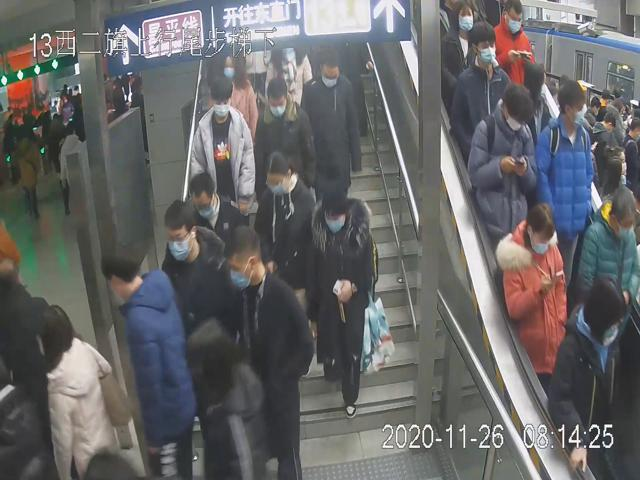person: (220, 220, 313, 480), (303, 193, 392, 417), (489, 204, 568, 392), (537, 78, 595, 317), (466, 82, 537, 254), (298, 50, 364, 206), (254, 152, 320, 298), (189, 73, 255, 211), (156, 199, 225, 323), (254, 77, 313, 216), (451, 20, 511, 150)
